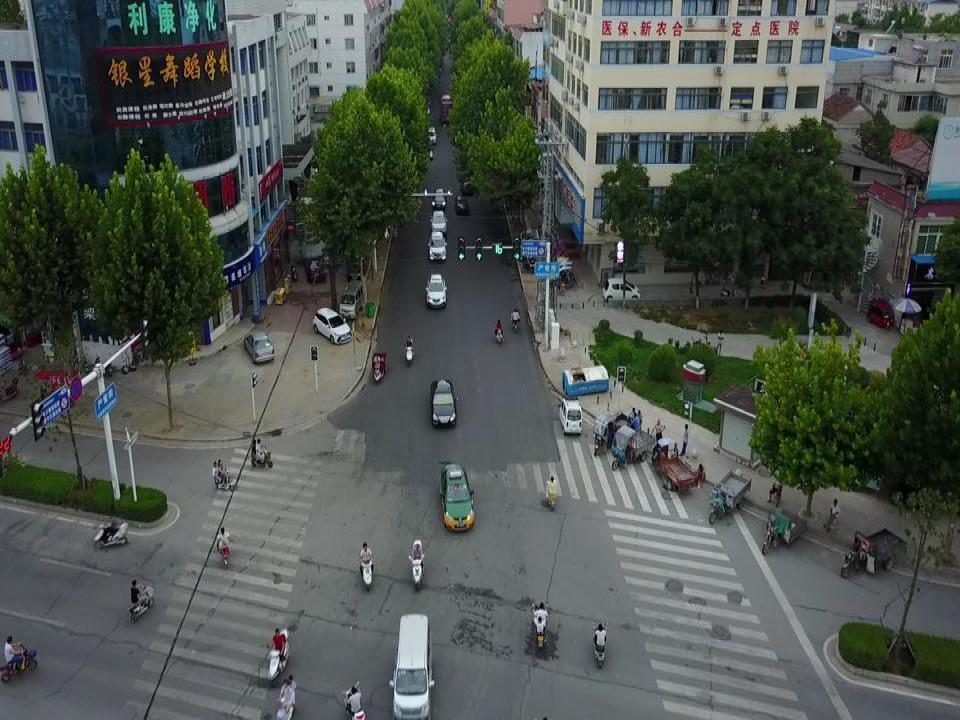bus: (439, 93, 455, 124)
car: (440, 464, 475, 531), (428, 378, 458, 426), (312, 308, 352, 343), (244, 329, 274, 363), (602, 277, 641, 303), (558, 397, 582, 436), (349, 244, 370, 280), (426, 274, 447, 306), (303, 256, 324, 283), (428, 231, 447, 260), (430, 211, 447, 233), (454, 196, 470, 215), (432, 190, 447, 210), (459, 179, 474, 196)
van: (389, 614, 434, 718), (339, 280, 366, 320), (426, 127, 437, 144)
